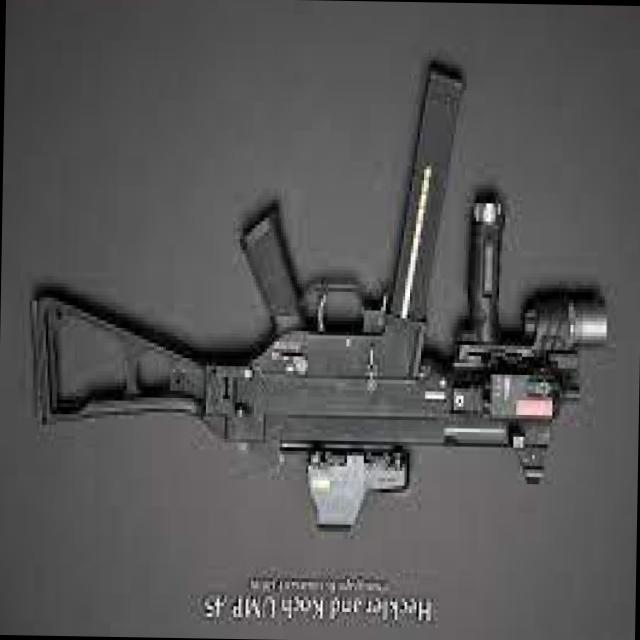Gun: (24, 64, 594, 544)
